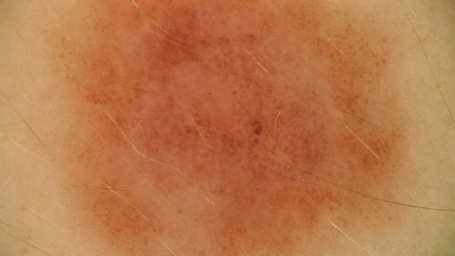seborrheic keratosis: (73, 1, 401, 256)
